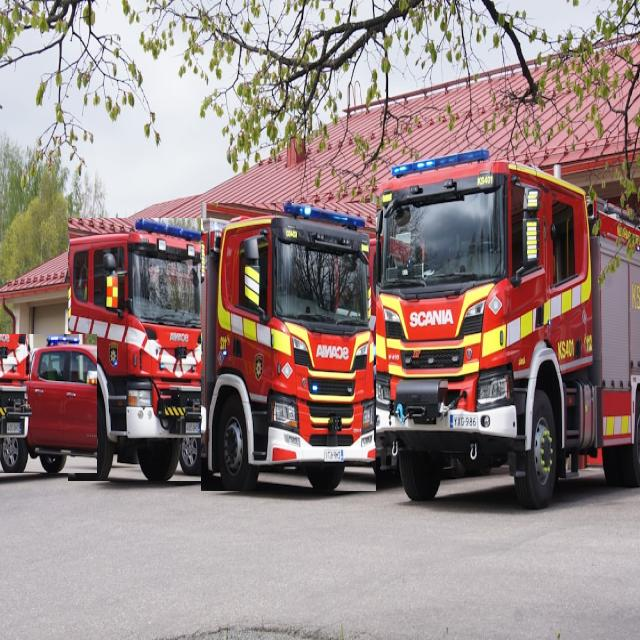car: (0, 335, 97, 473)
emergency: (370, 149, 640, 508), (201, 203, 376, 491), (69, 219, 208, 481)
